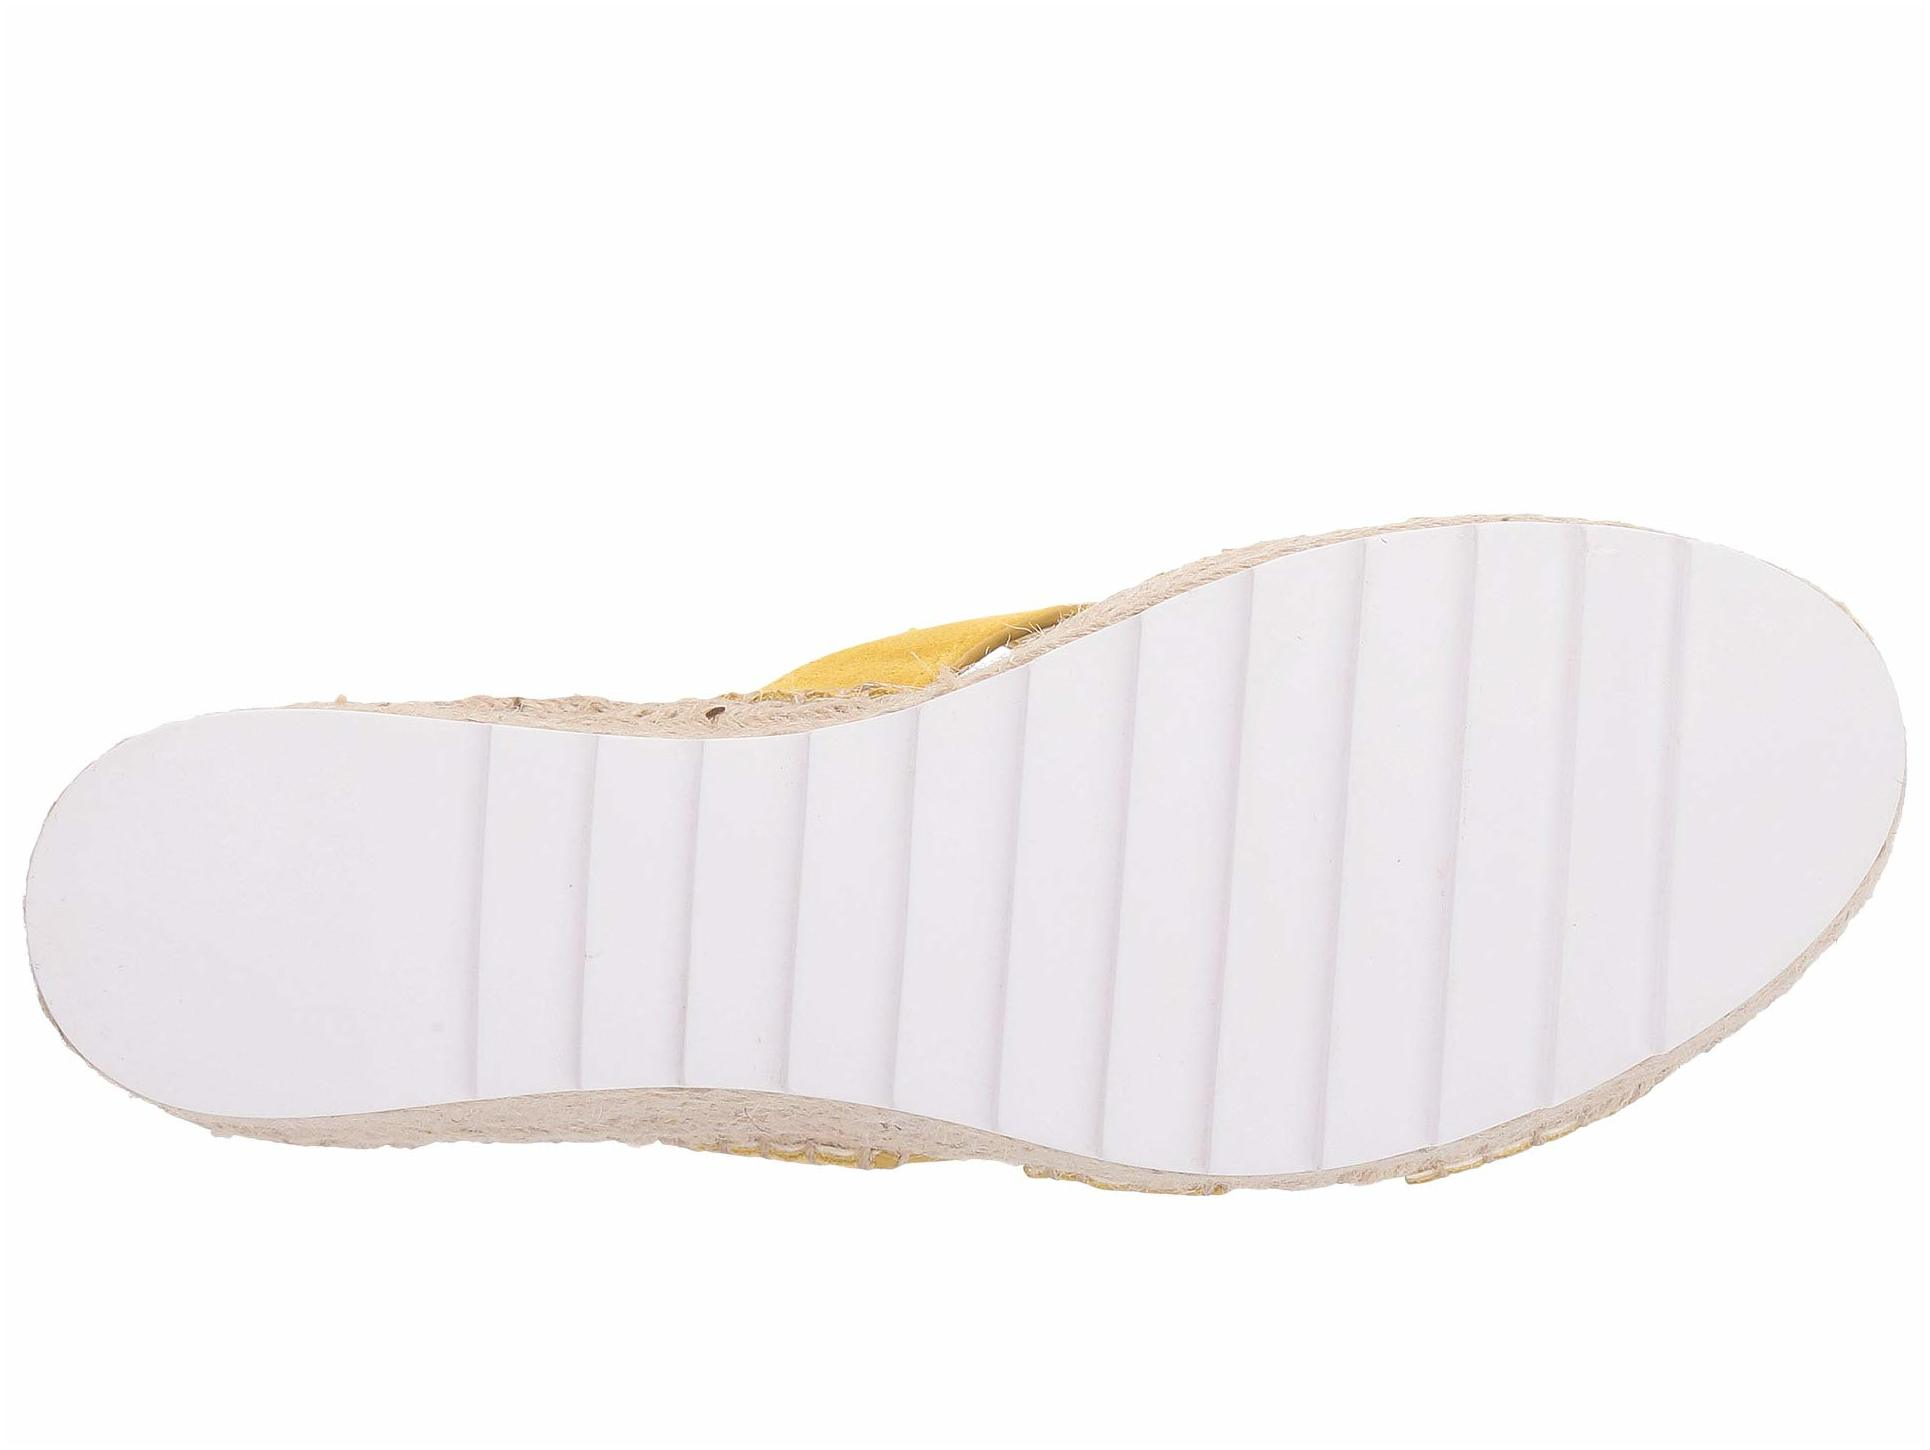line: (772, 771, 1286, 985), (1360, 660, 1747, 889), (436, 784, 515, 995), (664, 790, 727, 1049), (567, 800, 625, 1033)
